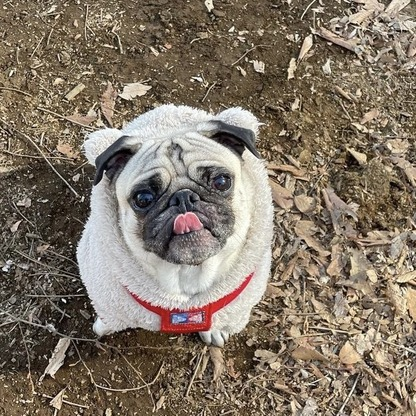Pug: (67, 91, 284, 351)
